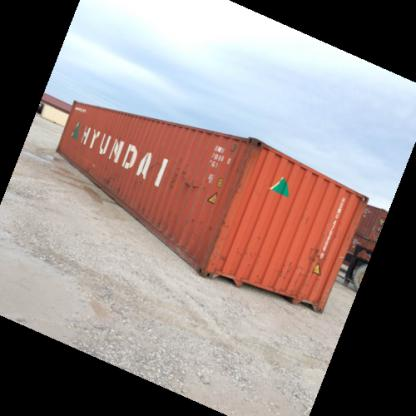Damage: (220, 136, 260, 198), (198, 214, 232, 268), (168, 165, 208, 191), (101, 169, 128, 197), (302, 240, 326, 268), (274, 256, 296, 286)
